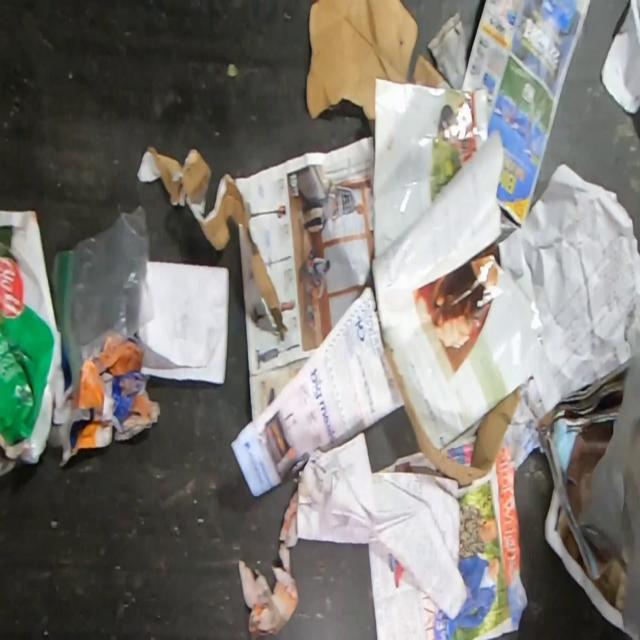cardboard: (136, 144, 289, 342), (382, 343, 523, 488), (304, 0, 454, 135)
soft_plastic: (576, 288, 640, 640), (52, 202, 156, 388), (0, 208, 65, 465)
